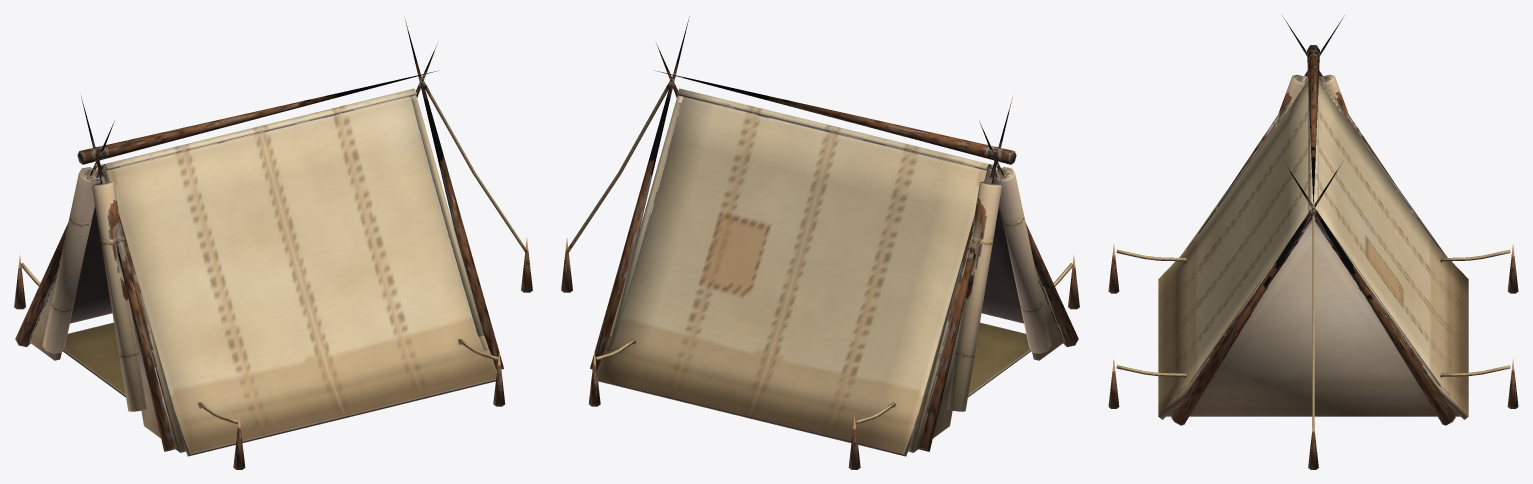
The model's file is tent.glb.
3 renders of one model, left to right at view 1: azimuth 30°, elevation 25°; view 2: azimuth 150°, elevation 25°; view 3: azimuth 270°, elevation 25°, orthographic. The views are drawn at different scales.
Visible parts, largest first — view 1: tent; view 2: tent; view 3: tent.
Part boxes in pixels (left/top/right/bottom): tent: left=14, top=16, right=532, bottom=469; tent: left=561, top=16, right=1079, bottom=469; tent: left=1108, top=15, right=1518, bottom=469.
Size of the model in its own units: 3.2 by 1.99 by 2.77.
Materials: 1 (1 with a texture image).
